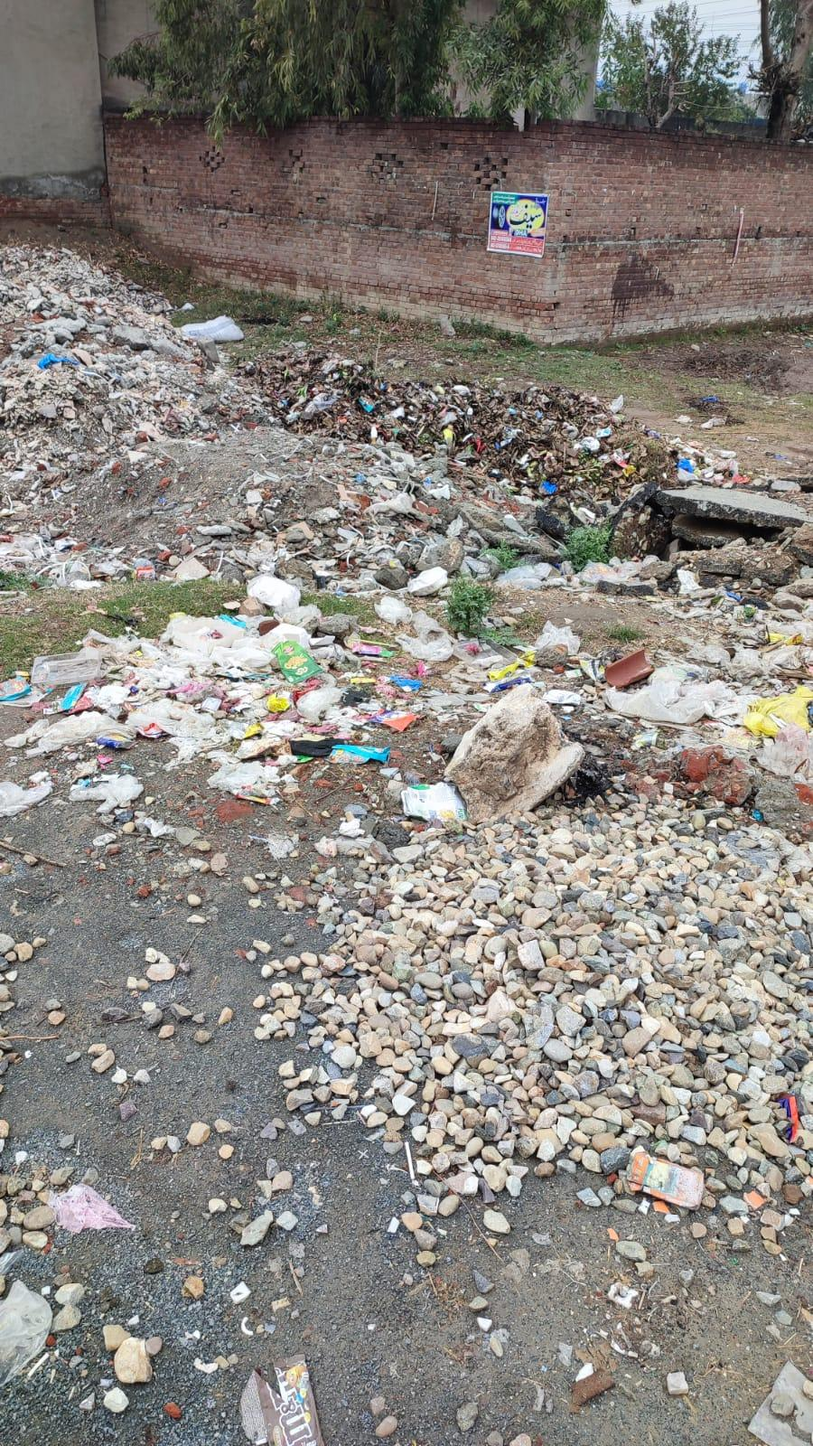garbage: (40, 437, 813, 926)
